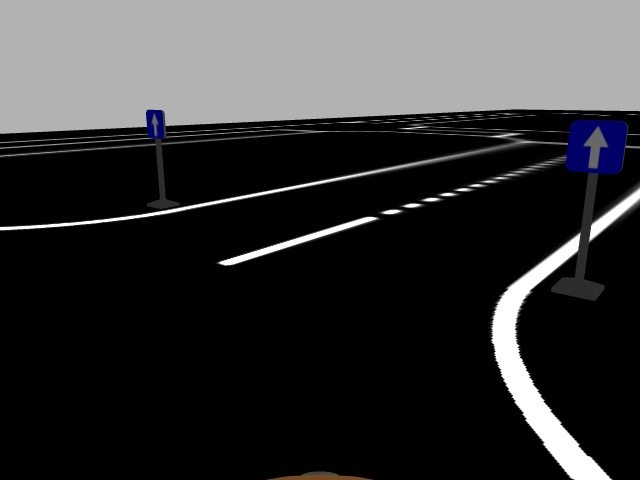oneway: (566, 116, 629, 177), (144, 106, 166, 143)
